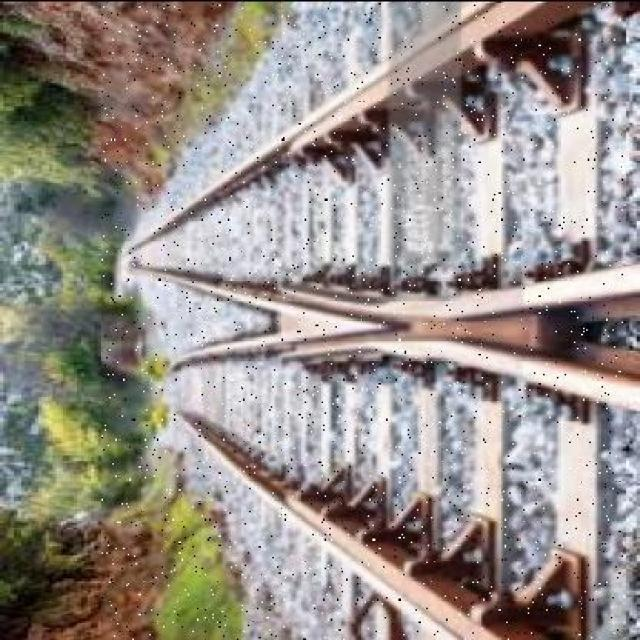rail: (103, 3, 624, 640)
